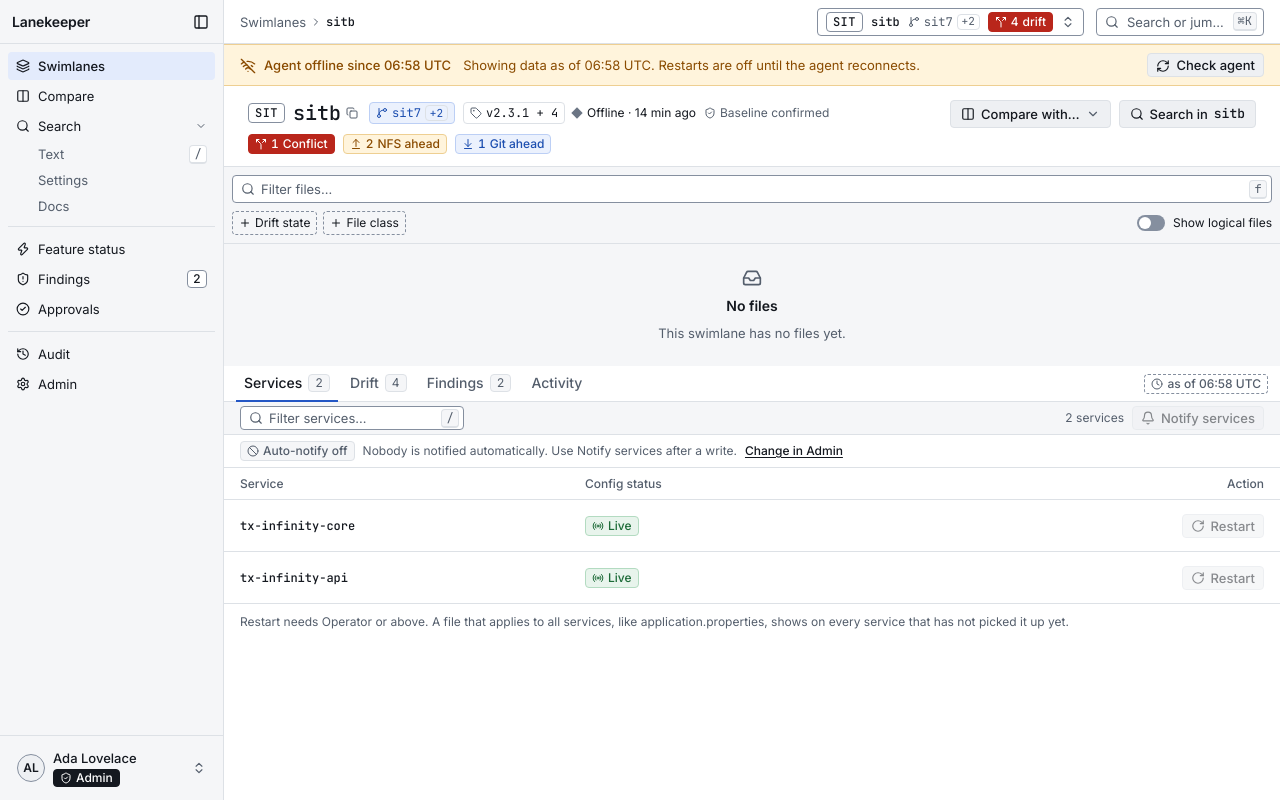
Test: the banners › says when the agent went offline, stamps the data with that time, and Check agent reads the swimlane again
The image size is (1280, 800).
expect the text "Agent offline since 06:58 UTC" is shown: met, box 264,56 -> 451,74
Click the button "Check agent" at coordinates (1206, 65), box 1148,53 -> 1264,77
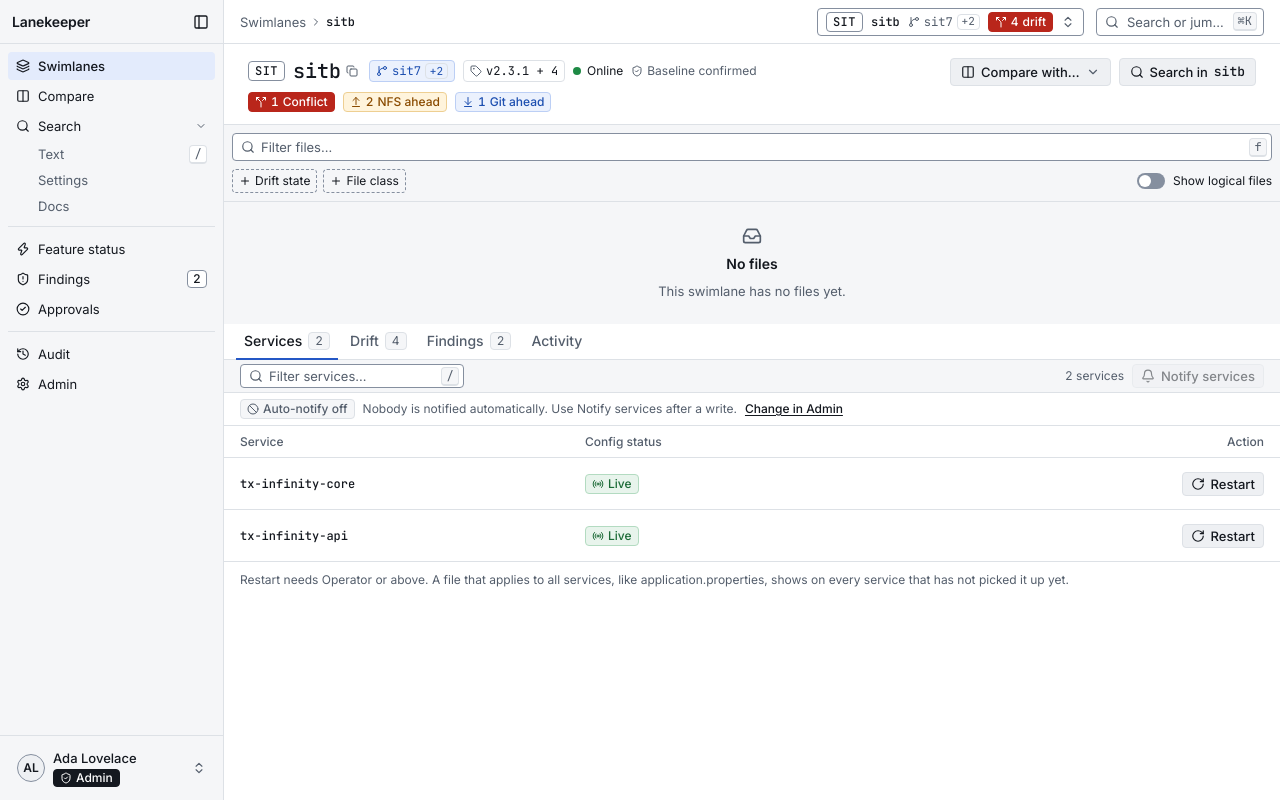
expect the text "Agent offline since" is gone: met
